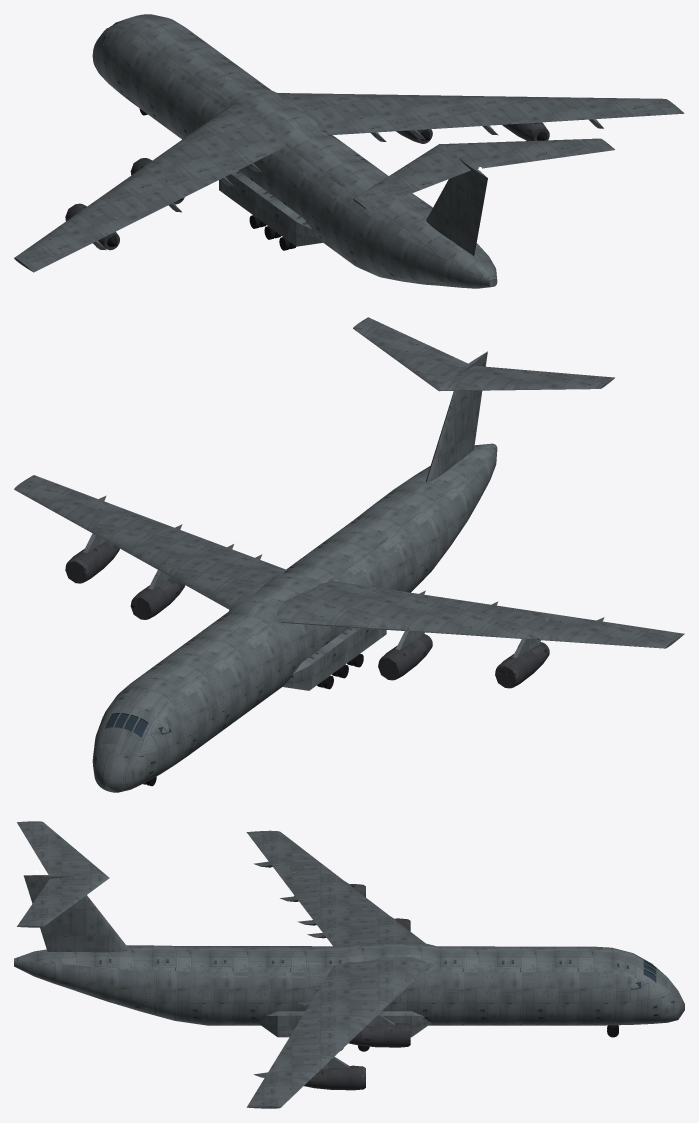
File: freighter.glb
The picture shows the model from 3 angles, top to bottom: view 1: azimuth 30°, elevation 25°; view 2: azimuth 150°, elevation 25°; view 3: azimuth 270°, elevation 25°; orthographic projection. The views are drawn at different scales.
Visible parts, largest first — view 1: fuselage_0, wing_0_-1, wing_0_+1, wing_1_-1, wing_1_+1, fuselage_1, fin_0, tailplane_0_+1, fuselage_2, tailplane_0_-1, wing_2_+1, wing_2_-1 (+4 smaller); view 2: fuselage_0, wing_0_-1, wing_0_+1, wing_1_-1, fuselage_1, wing_1_+1, fin_0, tailplane_0_-1, fuselage_2, tailplane_0_+1, wing_2_-1, wing_2_+1 (+6 smaller); view 3: fuselage_0, wing_0_+1, fuselage_1, wing_0_-1, wing_1_+1, fin_0, wing_1_-1, fuselage_2, tailplane_0_+1, tailplane_0_-1, engine_0_+13, engine_0_+22 (+5 smaller).
Boxes of the visible parts, bbox=[...] form: fuselage_0: bbox=[92, 14, 497, 288]; wing_0_-1: bbox=[14, 103, 286, 272]; wing_0_+1: bbox=[277, 93, 684, 134]; wing_1_-1: bbox=[15, 103, 277, 271]; wing_1_+1: bbox=[277, 93, 679, 135]; fuselage_1: bbox=[93, 14, 496, 287]; fin_0: bbox=[426, 158, 487, 256]; tailplane_0_+1: bbox=[439, 138, 610, 160]; fuselage_2: bbox=[103, 25, 496, 287]; tailplane_0_-1: bbox=[353, 144, 461, 209]; wing_2_+1: bbox=[278, 95, 675, 113]; wing_2_-1: bbox=[17, 103, 266, 270]; fuselage_0: bbox=[92, 443, 497, 792]; wing_0_-1: bbox=[276, 581, 684, 648]; wing_0_+1: bbox=[14, 475, 286, 609]; wing_1_-1: bbox=[277, 586, 684, 646]; fuselage_1: bbox=[93, 445, 496, 792]; wing_1_+1: bbox=[15, 477, 276, 605]; fin_0: bbox=[426, 351, 487, 482]; tailplane_0_-1: bbox=[438, 371, 610, 391]; fuselage_2: bbox=[104, 480, 456, 785]; tailplane_0_+1: bbox=[353, 320, 460, 390]; wing_2_-1: bbox=[278, 592, 676, 647]; wing_2_+1: bbox=[17, 480, 266, 600]; fuselage_0: bbox=[14, 944, 684, 1037]; wing_0_+1: bbox=[246, 956, 428, 1108]; fuselage_1: bbox=[14, 943, 684, 1036]; wing_0_-1: bbox=[246, 830, 425, 946]; wing_1_+1: bbox=[251, 957, 425, 1108]; fin_0: bbox=[23, 874, 129, 952]; wing_1_-1: bbox=[252, 831, 424, 944]; fuselage_2: bbox=[77, 946, 638, 1036]; tailplane_0_+1: bbox=[17, 875, 109, 927]; tailplane_0_-1: bbox=[24, 821, 107, 876]; engine_0_+13: bbox=[349, 1014, 410, 1047]; engine_0_+22: bbox=[292, 1053, 365, 1090].
Bounding box in the file's own units: 68 × 18.98 × 70.
Materials: 8 (4 with a texture image).
